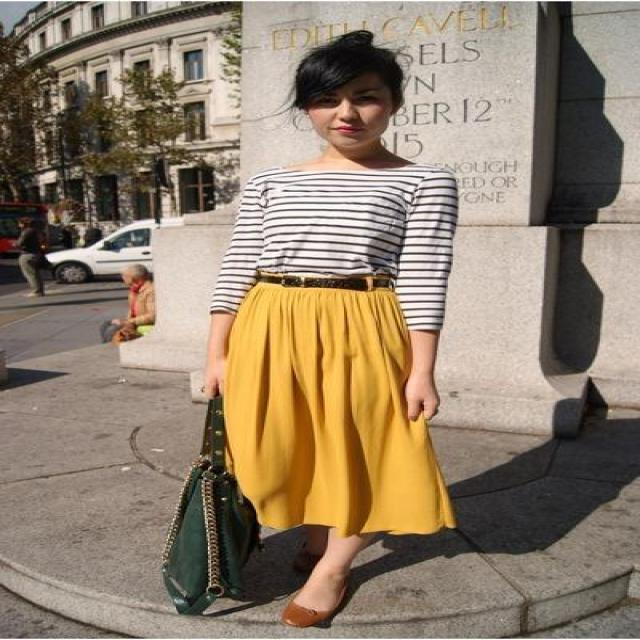bag: (162, 399, 276, 616)
shirt: (204, 152, 466, 323)
shoe: (264, 591, 347, 628)
skirt: (210, 280, 452, 534)
